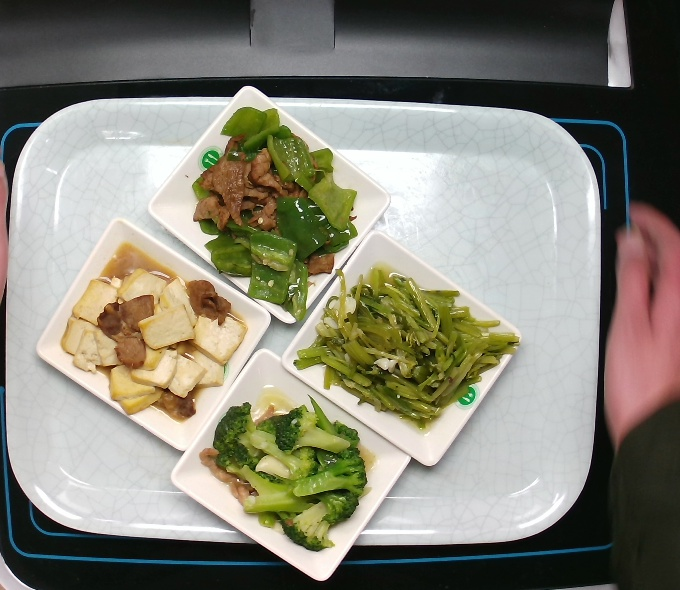wcq-DouFuRouPian: (48, 249, 243, 427)
wcq-QinCai: (290, 251, 528, 424)
wcq-QingJiaoChaoRou: (192, 103, 361, 312)
wcq-XiLanHua: (208, 386, 369, 563)
